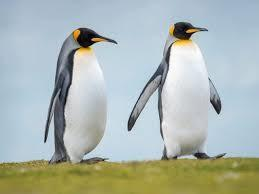king: (126, 16, 235, 175), (39, 21, 131, 172)
